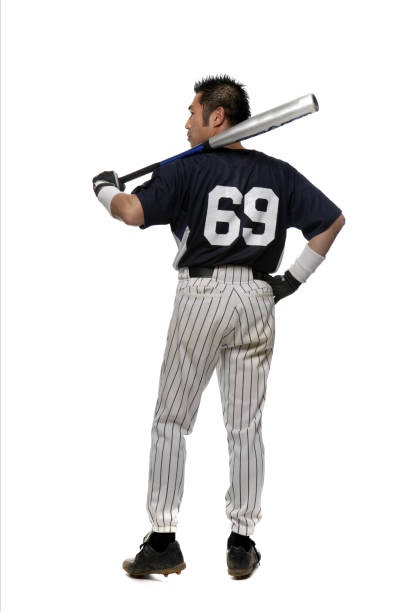bita: (97, 97, 313, 187)
